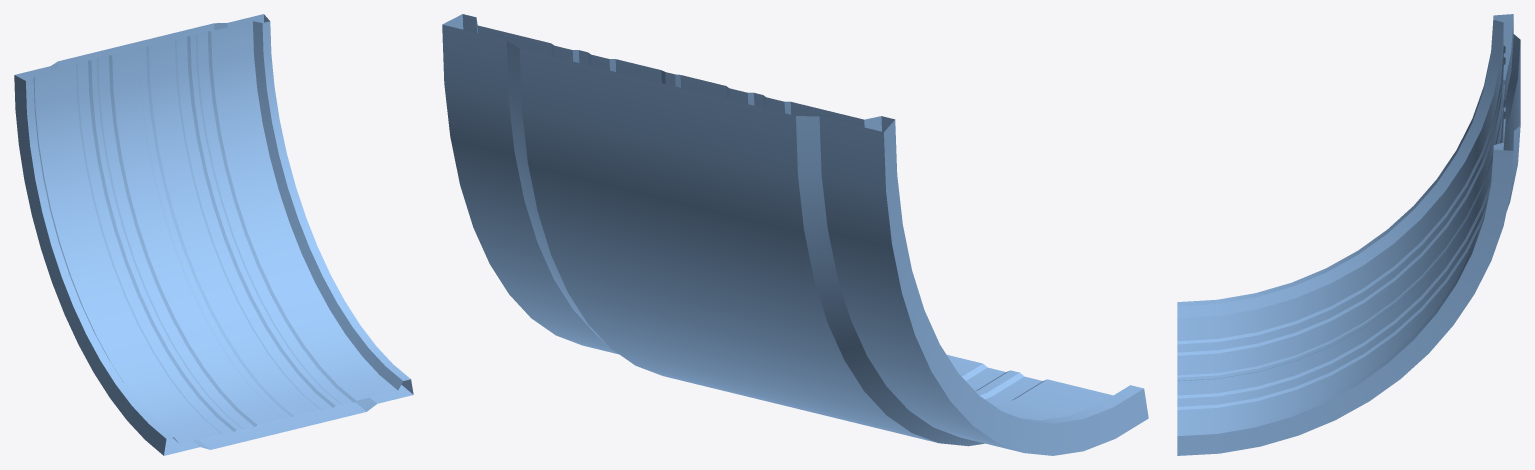
Rendered from Race-Circuit_04.FBX.
3 views of the same model, side by side, from view 1: azimuth 30°, elevation 25°; view 2: azimuth 150°, elevation 25°; view 3: azimuth 270°, elevation 25° (orthographic). The views are drawn at different scales.
Parts seen in each view (by area): view 1: Race-Circuit_04; view 2: Race-Circuit_04; view 3: Race-Circuit_04.
Part boxes in pixels (bbox=[...]): Race-Circuit_04: bbox=[14, 14, 413, 455]; Race-Circuit_04: bbox=[442, 14, 1148, 455]; Race-Circuit_04: bbox=[1177, 14, 1520, 455].
Bounding box in the file's own units: 961 × 1018 × 1018.
